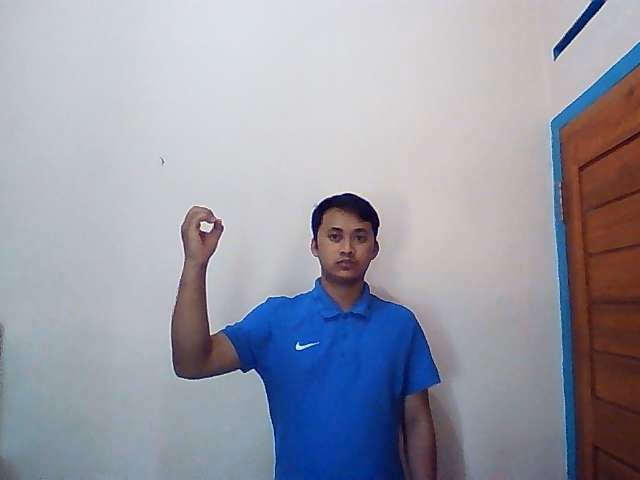O: (179, 204, 225, 260)
